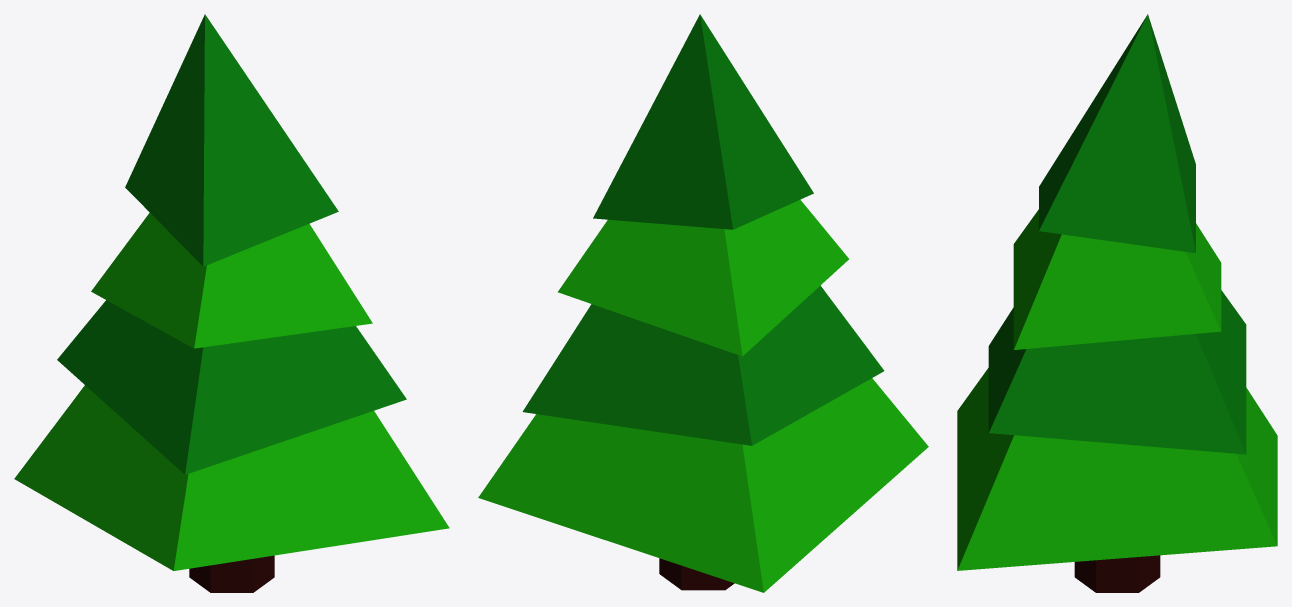
The model's file is Tree 2.fbx.
The picture shows the model from 3 angles, left to right: view 1: azimuth 30°, elevation 25°; view 2: azimuth 150°, elevation 25°; view 3: azimuth 270°, elevation 25°; orthographic projection. The views are drawn at different scales.
Visible parts, largest first — view 1: Cylinder; view 2: Cylinder; view 3: Cylinder.
Part boxes in pixels (box(x1,y1,x2,y2)): Cylinder: box(14, 14, 449, 592); Cylinder: box(478, 14, 928, 592); Cylinder: box(957, 14, 1277, 592).
Bounding box in the file's own units: 1.87 × 3.59 × 1.87.
